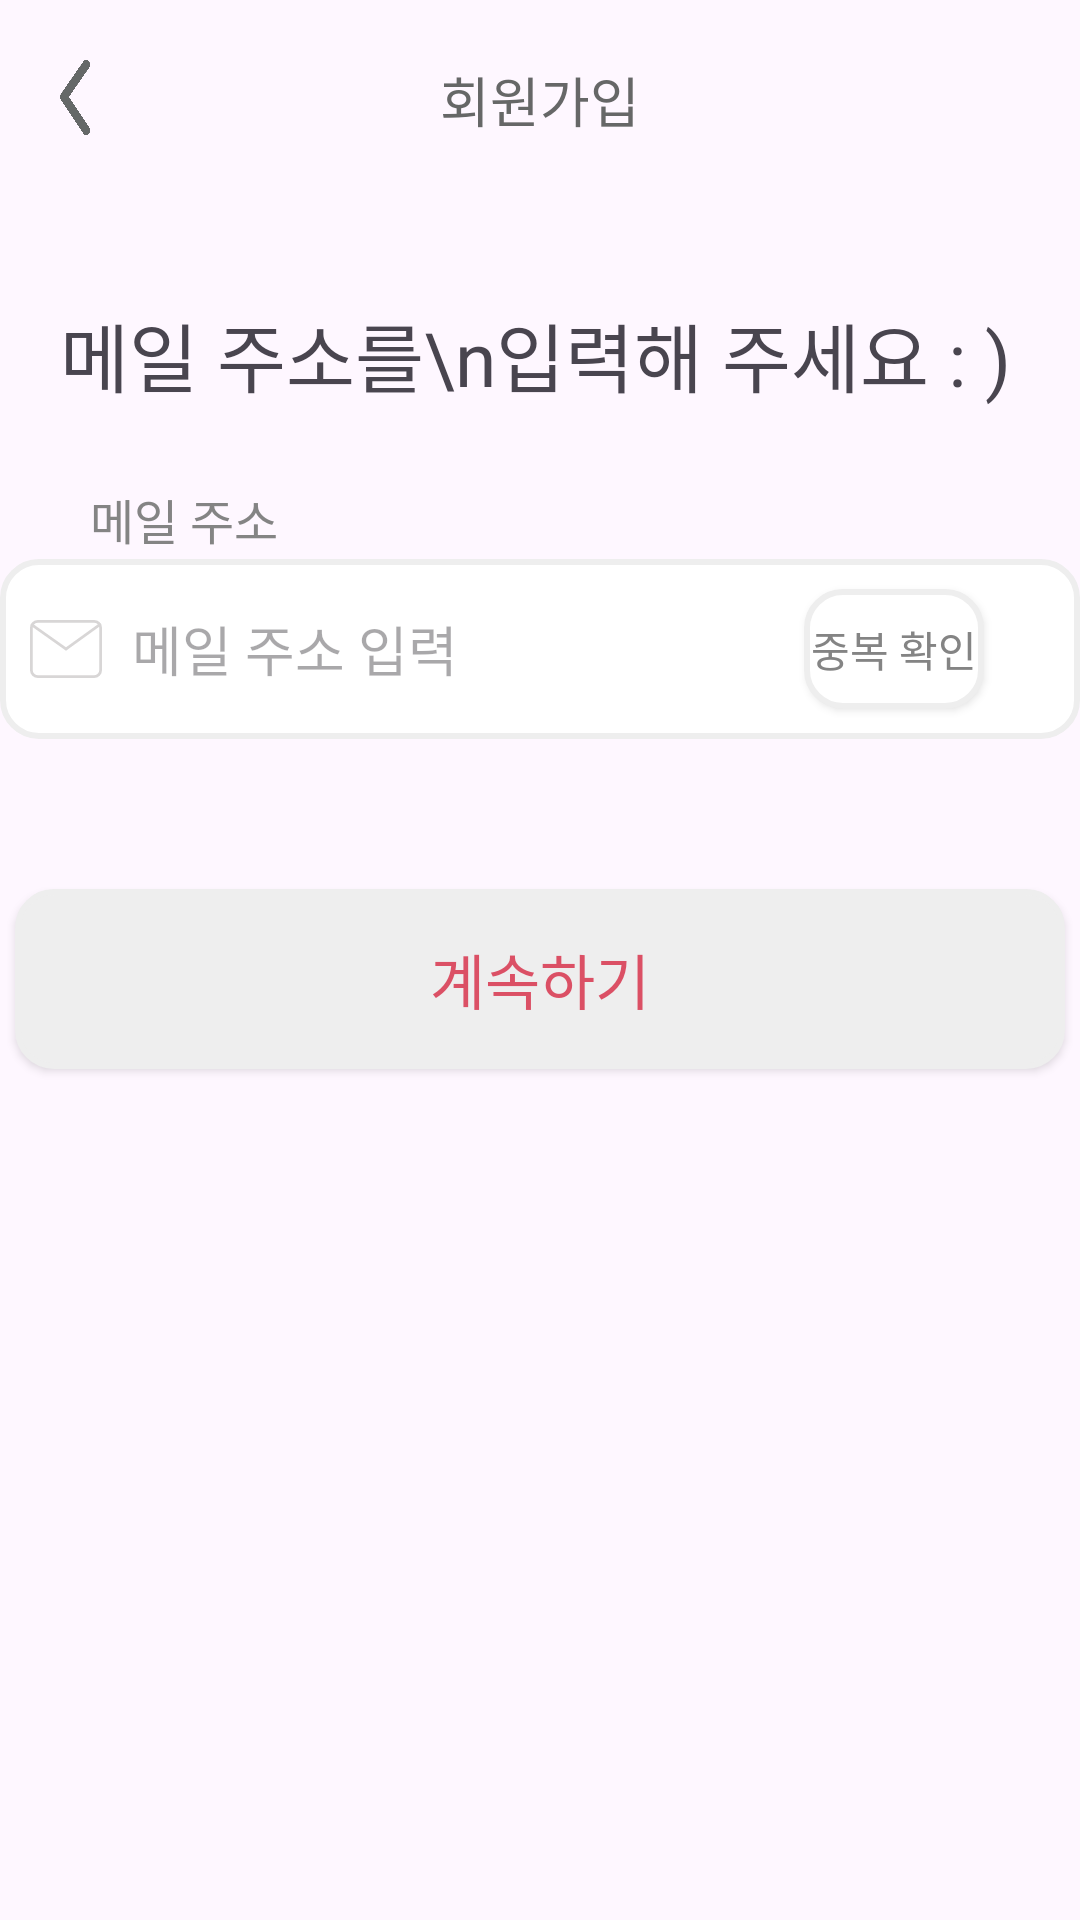

Icon bounding boxes for this 1080px×1920px phone screenshot, format {"left": x1, "top": y1, "right": x2, "bottom": y2}:
wlsback: {"left": 60, "top": 60, "right": 90, "bottom": 135}
